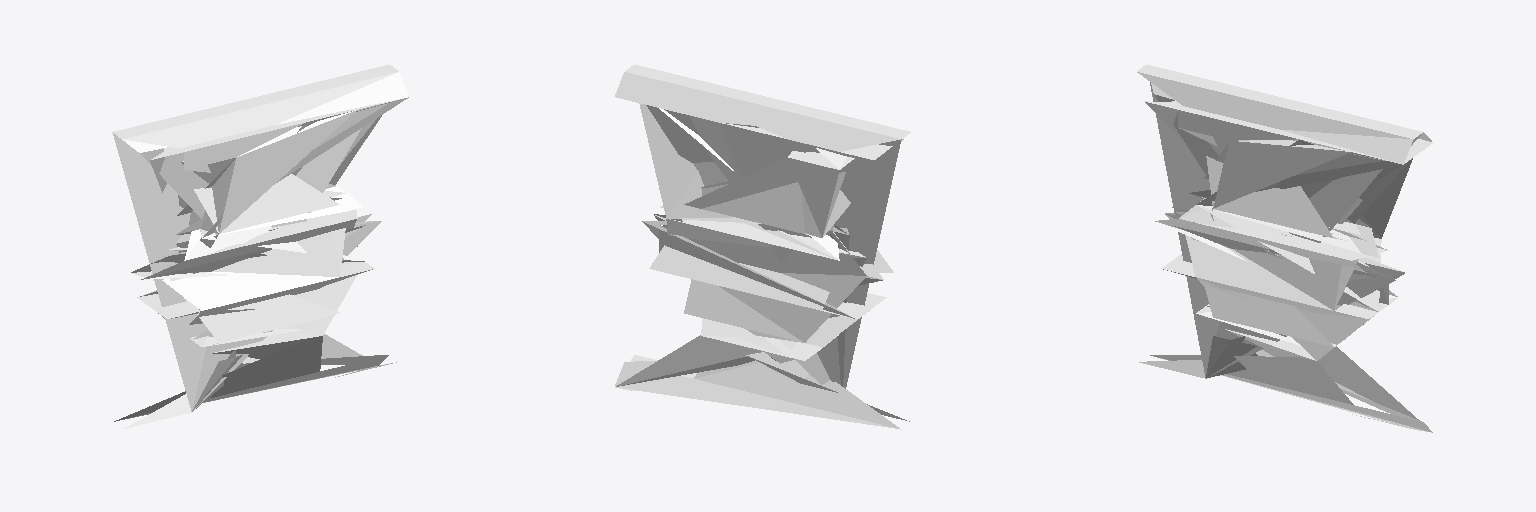
Rendered from red_spring_2.obj.
3 renders of one model, left to right at view 1: azimuth 30°, elevation 25°; view 2: azimuth 150°, elevation 25°; view 3: azimuth 330°, elevation 25°, orthographic.
Size of the model in its own units: 16 by 17 by 3.